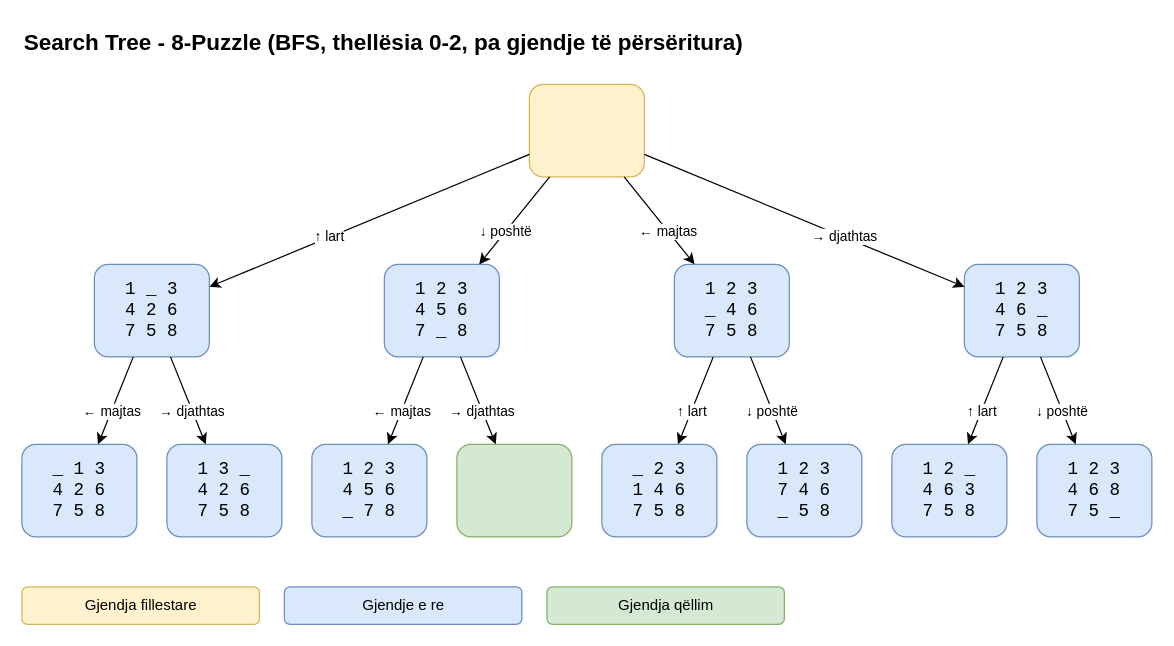
The diagram is 1174 pixels wide and 646 high, and some of its shapes have lost their labels. The shapes that lost their labels are listed below. From the top down, each one's box as (x1, y1, x2, y2) in pixels, then its label:
(528, 83, 644, 177): 1 2 3 4 _ 6 7 5 8 (START)
(456, 443, 572, 537): 1 2 3 4 5 6 7 8 _ (GOAL)
